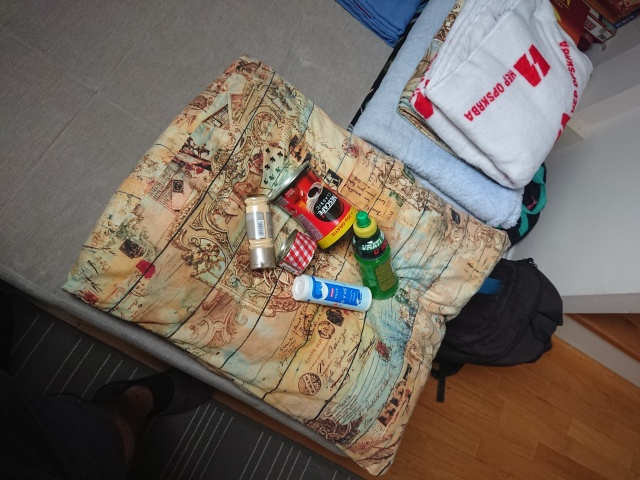Kotanyi Garlic Granules 70g: (241, 192, 279, 272)
Nescafe Classic 225g: (266, 159, 368, 254)
Podravka Luncheon Meat 150g: (274, 227, 321, 278)
Solana Pag Fine Sea Salt 250g: (291, 272, 374, 314)
Vindi Iso Sport Lemon-Grapefruit 500mL: (350, 209, 402, 302)
